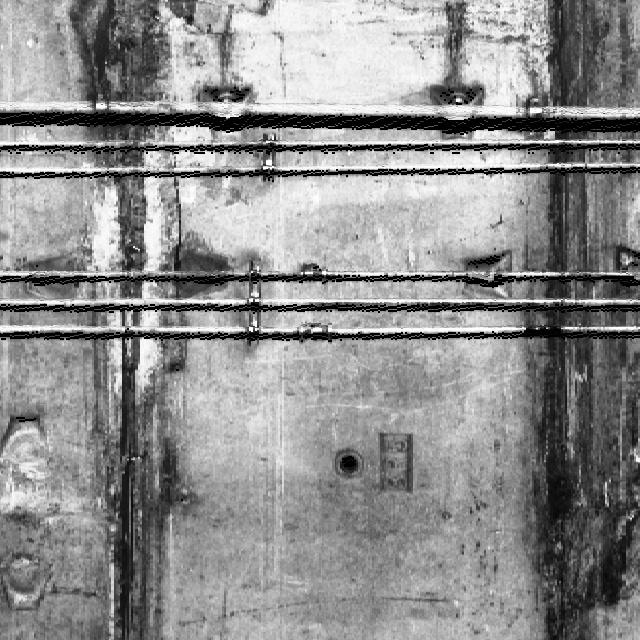leakage: (517, 0, 639, 639), (60, 2, 180, 639), (431, 0, 483, 87)
